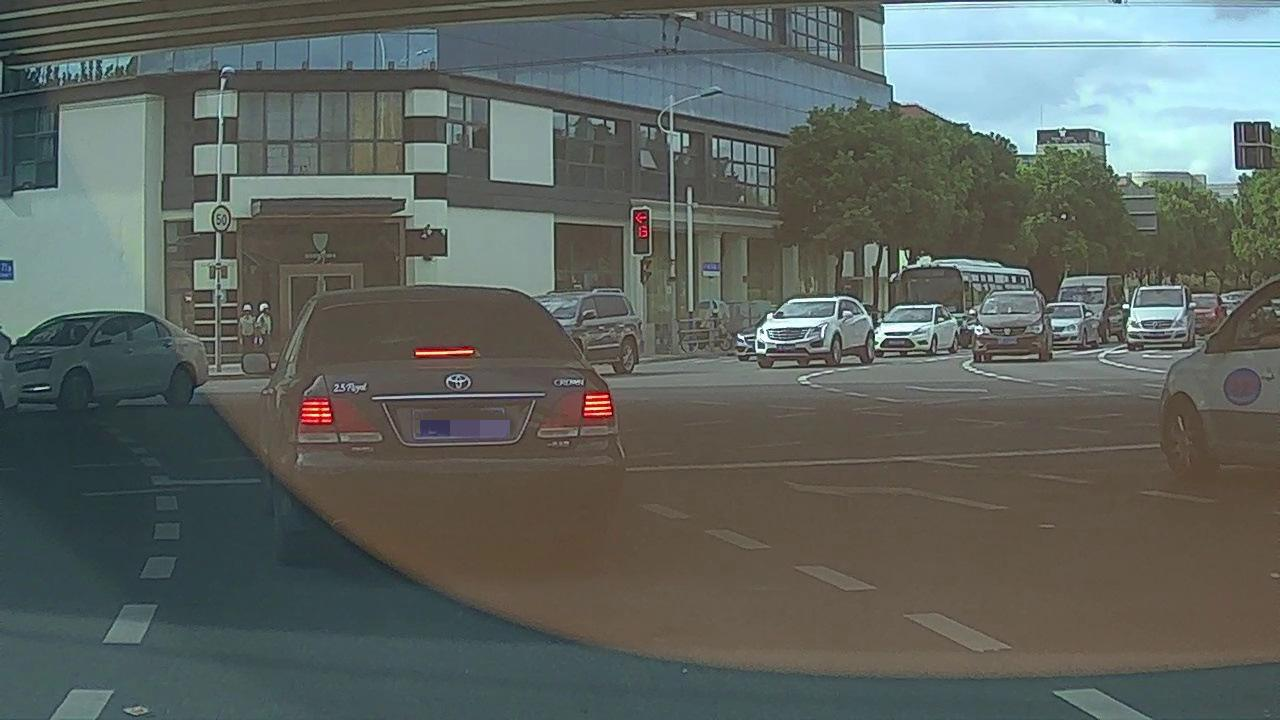traffic_light: (632, 205, 650, 254)
